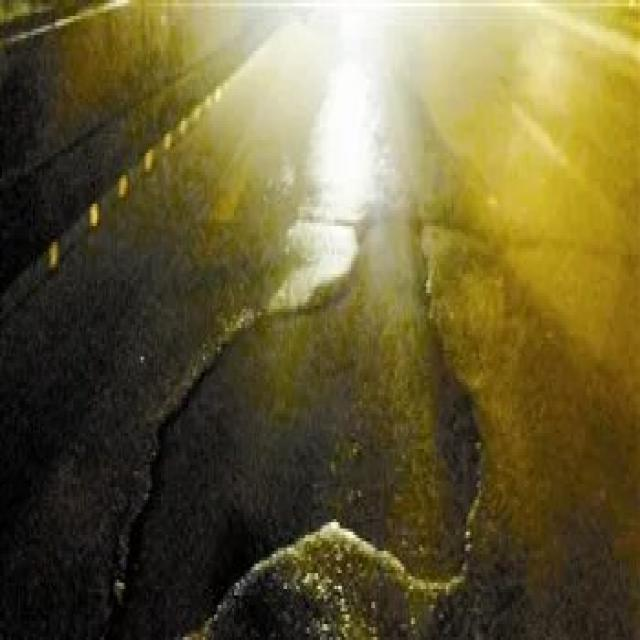Pothole: (121, 334, 499, 637), (291, 76, 375, 309)
